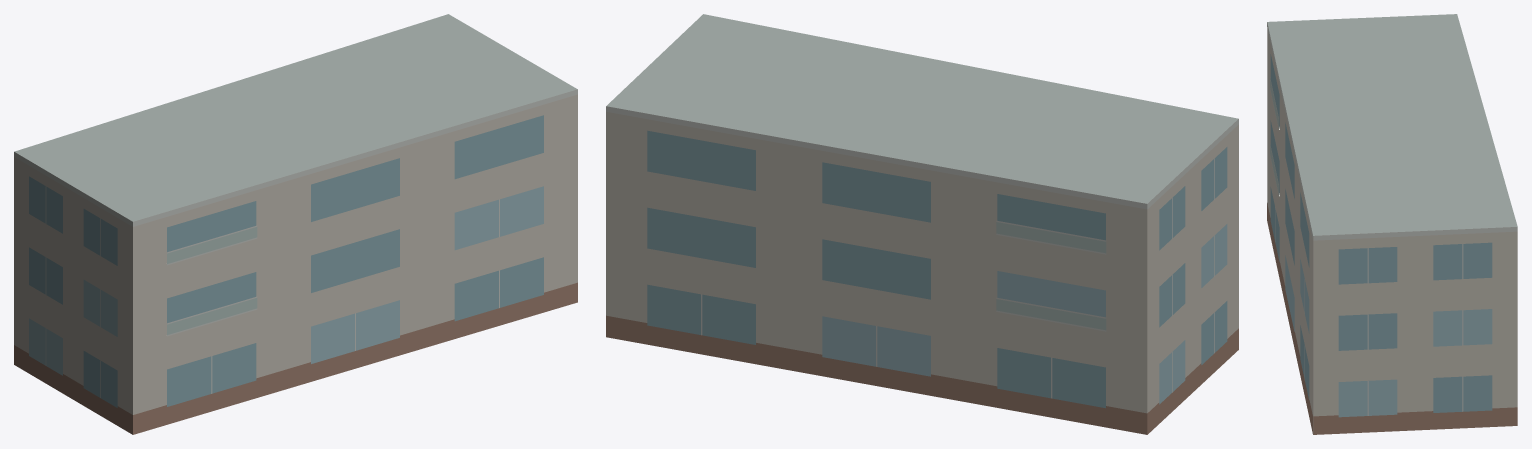
Rendered from survey-upis-32630731.glb.
The picture shows the model from 3 angles, left to right: view 1: azimuth 30°, elevation 25°; view 2: azimuth 150°, elevation 25°; view 3: azimuth 270°, elevation 25°; orthographic projection. The views are drawn at different scales.
Parts seen in each view (by area): view 1: survey-upis-32630731.tmp; view 2: survey-upis-32630731.tmp; view 3: survey-upis-32630731.tmp.
Part boxes in pixels (box(x1,y1,x2,y2)): survey-upis-32630731.tmp: box(14, 14, 577, 434); survey-upis-32630731.tmp: box(606, 14, 1238, 434); survey-upis-32630731.tmp: box(1267, 14, 1517, 434).
Bounding box in the file's own units: 24.15 × 10.1 × 11.53.
